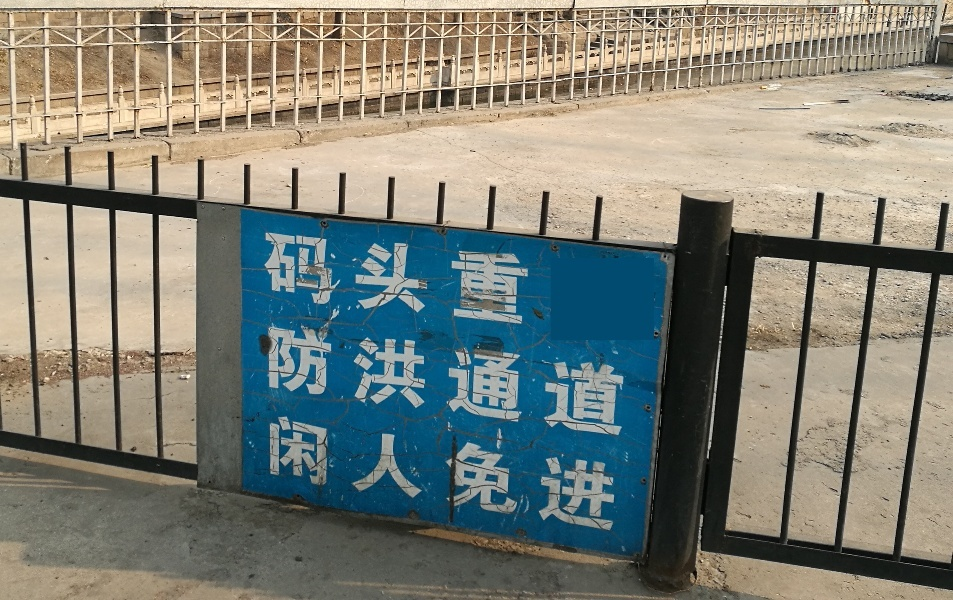text: (273, 320, 288, 438), (289, 320, 304, 438), (305, 320, 320, 438), (321, 320, 336, 438), (337, 320, 352, 438), (353, 320, 368, 438), (369, 320, 384, 438), (385, 320, 400, 438), (401, 320, 416, 438), (417, 320, 432, 438), (433, 320, 448, 438), (449, 320, 464, 438), (465, 320, 480, 438), (481, 320, 496, 438), (497, 320, 512, 438), (513, 320, 528, 438), (529, 320, 544, 438), (545, 320, 560, 438), (561, 320, 576, 438), (577, 320, 592, 438), (593, 320, 608, 438), (609, 320, 624, 438), (273, 414, 288, 532), (289, 414, 304, 532), (305, 414, 320, 532), (321, 414, 336, 532), (337, 414, 352, 532), (353, 414, 368, 532), (369, 414, 384, 532), (385, 414, 400, 532), (401, 414, 416, 532), (417, 414, 432, 532), (433, 414, 448, 532), (449, 414, 464, 532), (465, 414, 480, 532), (481, 414, 496, 532), (497, 414, 512, 532), (513, 414, 528, 532), (529, 414, 544, 532), (545, 414, 560, 532), (561, 414, 576, 532), (577, 414, 592, 532), (593, 414, 608, 532), (609, 414, 623, 532), (273, 229, 288, 328), (289, 229, 304, 328), (305, 229, 320, 328), (321, 229, 336, 328), (337, 229, 352, 328), (353, 229, 368, 328), (369, 229, 384, 328), (385, 229, 400, 328), (401, 229, 416, 328), (417, 229, 432, 328), (433, 229, 448, 328), (449, 229, 464, 328), (465, 229, 480, 328), (481, 229, 496, 328), (497, 229, 512, 328), (513, 229, 528, 328), (625, 320, 632, 438), (264, 229, 272, 328), (529, 229, 533, 328), (270, 320, 272, 438), (270, 414, 272, 532)
